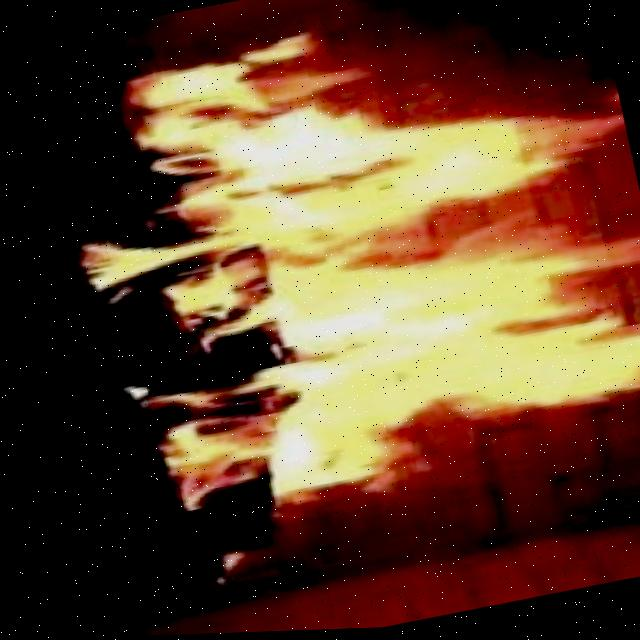Fire: (29, 0, 640, 617)
